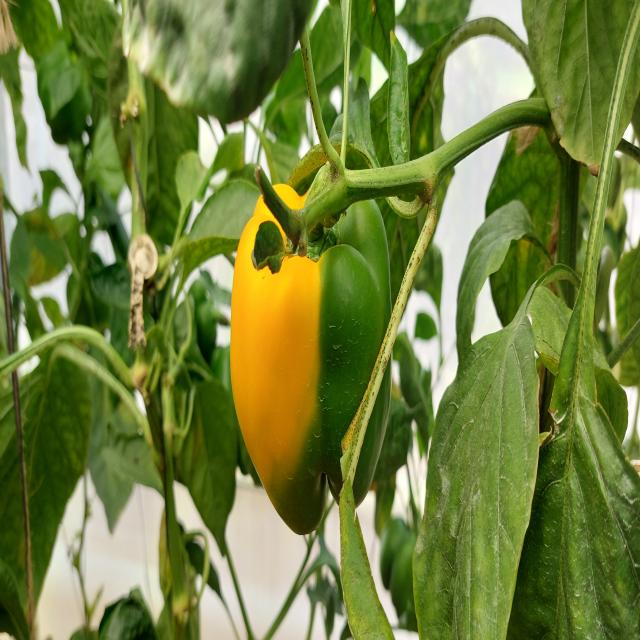GreenishYellow--Can-be-Harvested: (217, 141, 403, 521)
